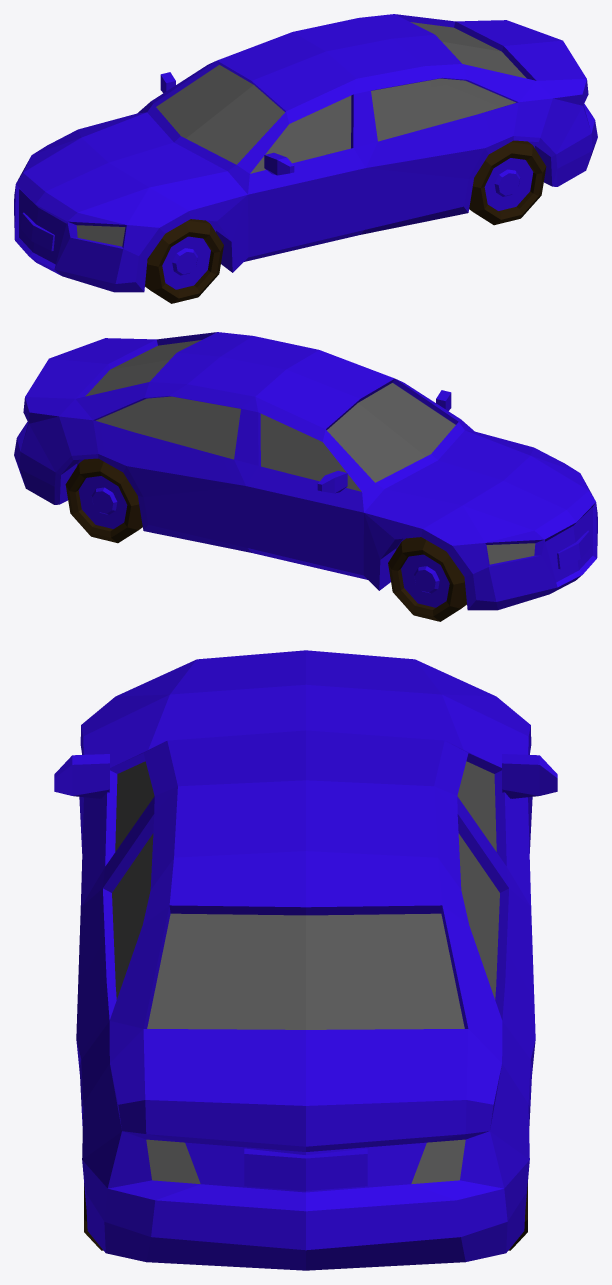
The model's file is Car 2.fbx.
3 views of the same model, one above another, from view 1: azimuth 30°, elevation 25°; view 2: azimuth 150°, elevation 25°; view 3: azimuth 270°, elevation 25° (orthographic). The views are drawn at different scales.
Parts seen in each view (by area): view 1: Car 2, Wheel2-4, Wheel2-3; view 2: Car 2, Wheel2-2, Wheel2-1; view 3: Car 2.
Boxes of the visible parts, bbox=[...] form: Car 2: bbox=[14, 14, 597, 292]; Wheel2-4: bbox=[145, 219, 223, 303]; Wheel2-3: bbox=[469, 140, 546, 225]; Car 2: bbox=[14, 332, 597, 610]; Wheel2-2: bbox=[388, 537, 466, 621]; Wheel2-1: bbox=[65, 458, 142, 543]; Car 2: bbox=[54, 650, 557, 1270].
Bounding box in the file's own units: 369 × 106 × 147.
